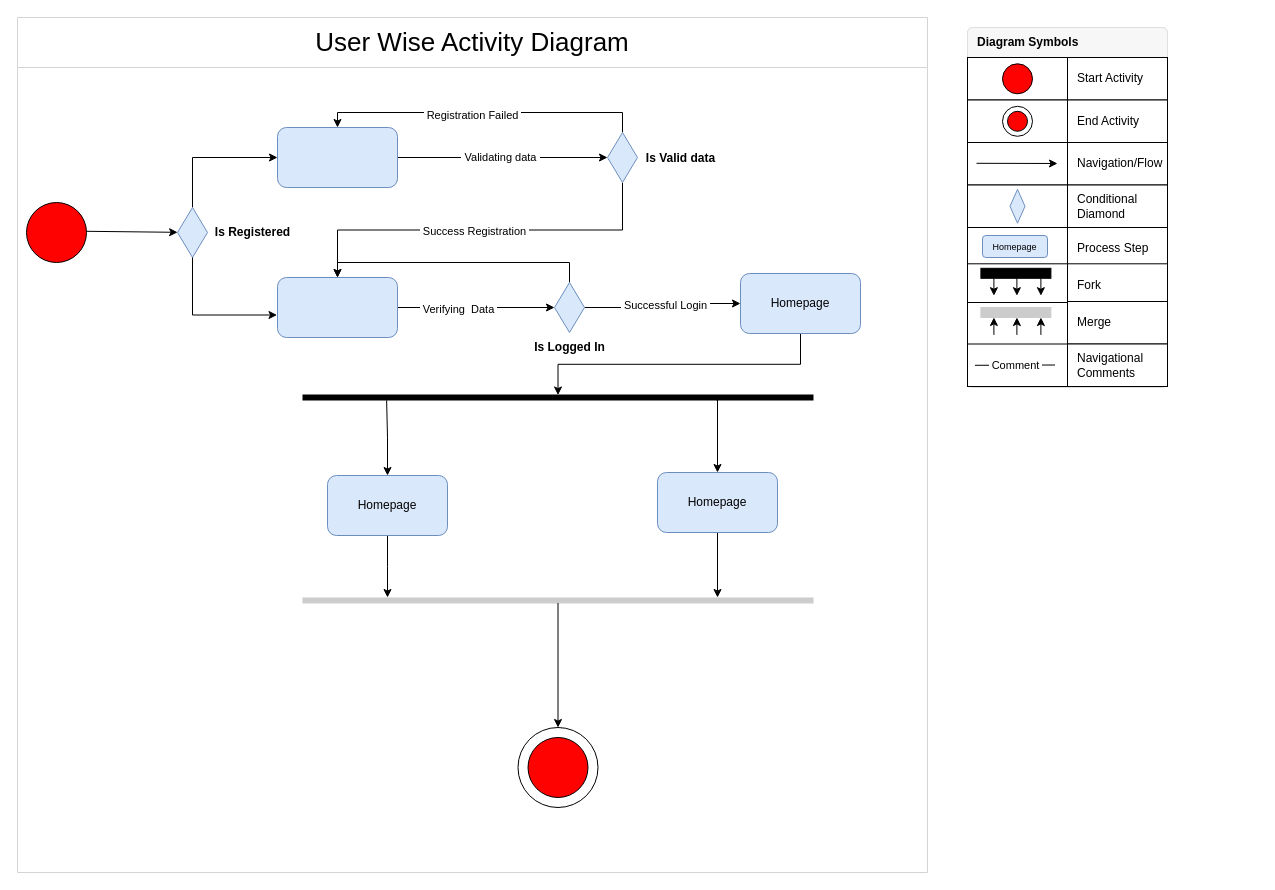
The diagram is 1275 pixels wide and 890 high, and some of its shapes have lost their labels. The centre of each missing label's shape, as x and y in pixels:
"Login" belongs at point 337,307.
"Registered" belongs at point 337,157.
